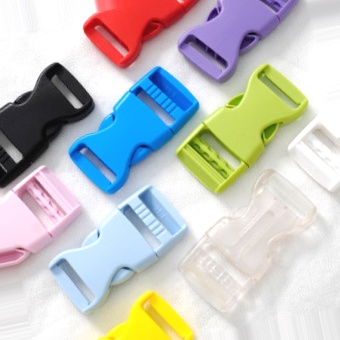plastic: (46, 183, 190, 312)
